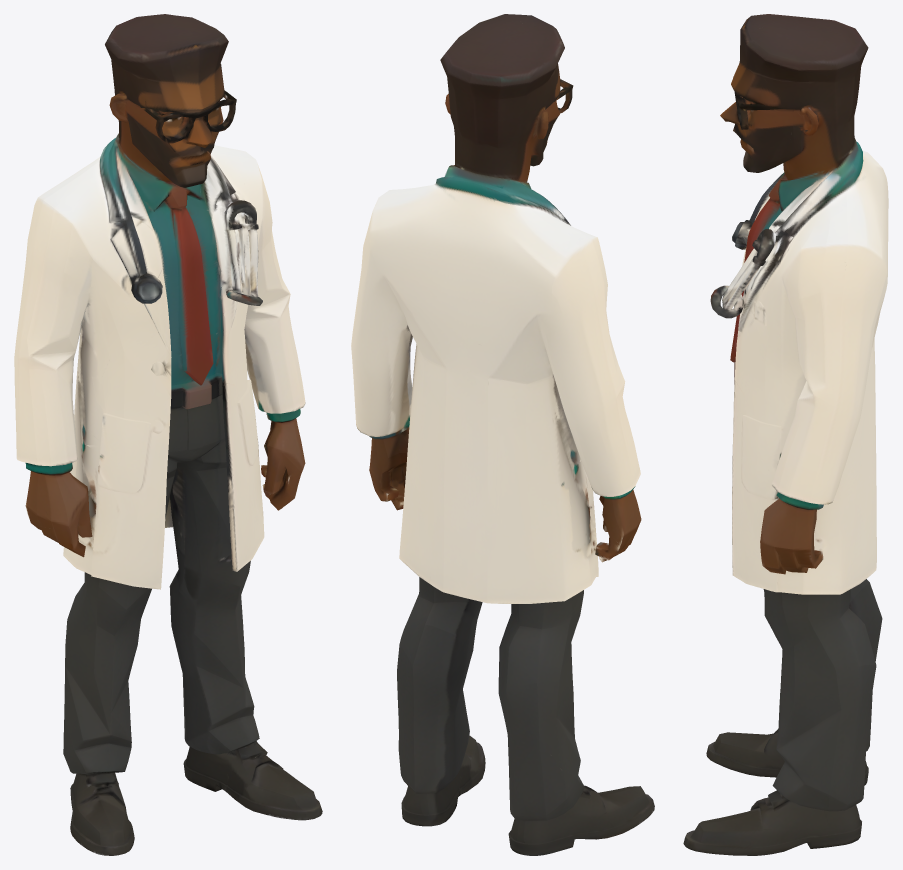
File: base_basic_shaded.fbx
3 renders of one model, left to right at view 1: azimuth 30°, elevation 25°; view 2: azimuth 150°, elevation 25°; view 3: azimuth 270°, elevation 25°, orthographic.
Parts seen in each view (by area): view 1: model; view 2: model; view 3: model.
Part boxes in pixels (x1,y1,x2,y2): model: (14, 14, 322, 855); model: (351, 14, 654, 855); model: (683, 14, 888, 855).
Size of the model in its own units: 64.62 by 174 by 41.34.
